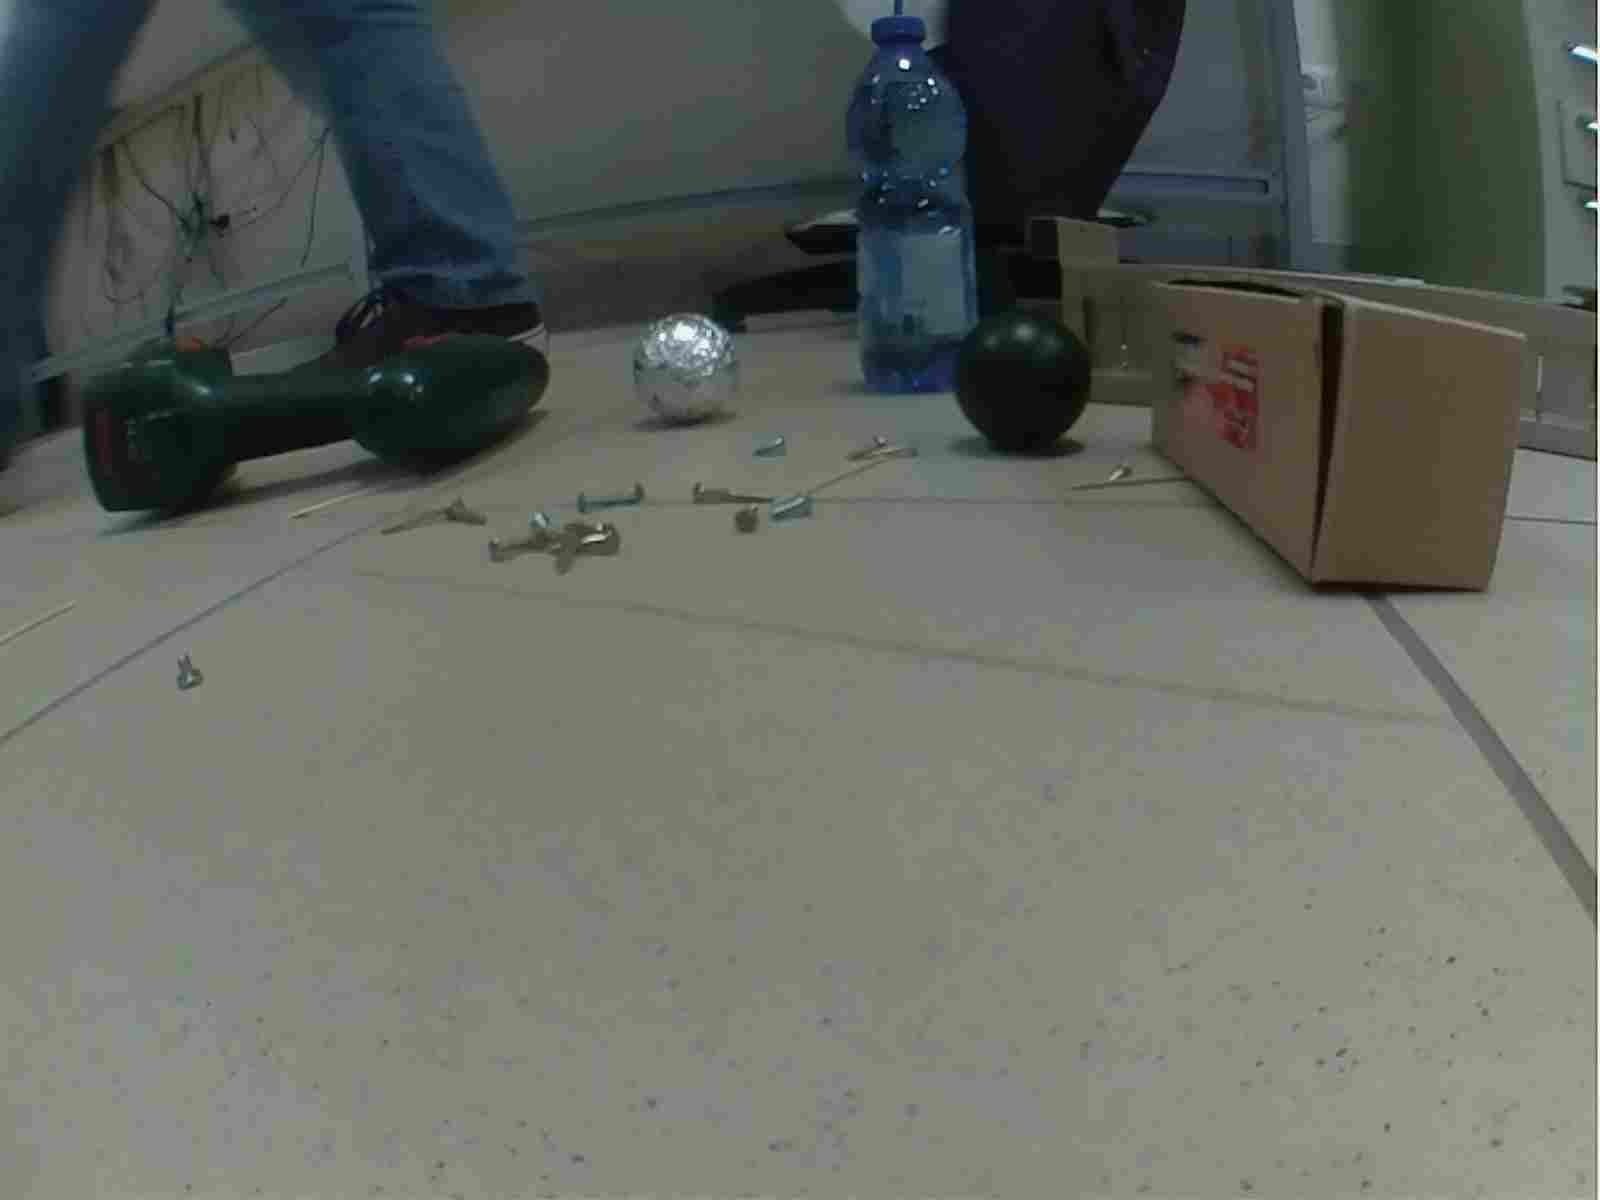bianca: (627, 308, 743, 424)
nera: (956, 310, 1095, 453)
